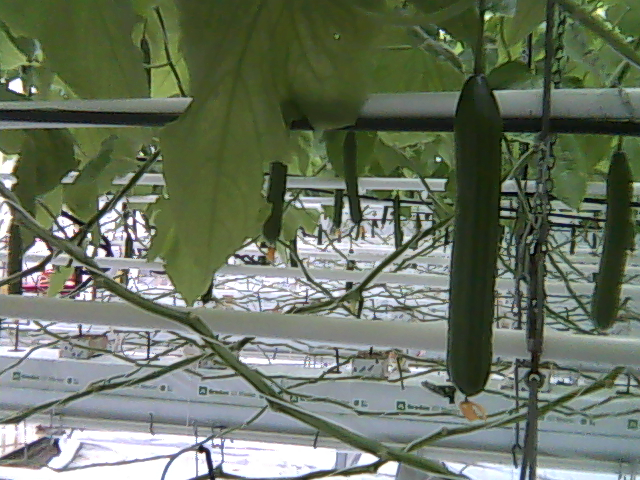concombre: (445, 65, 504, 421)
